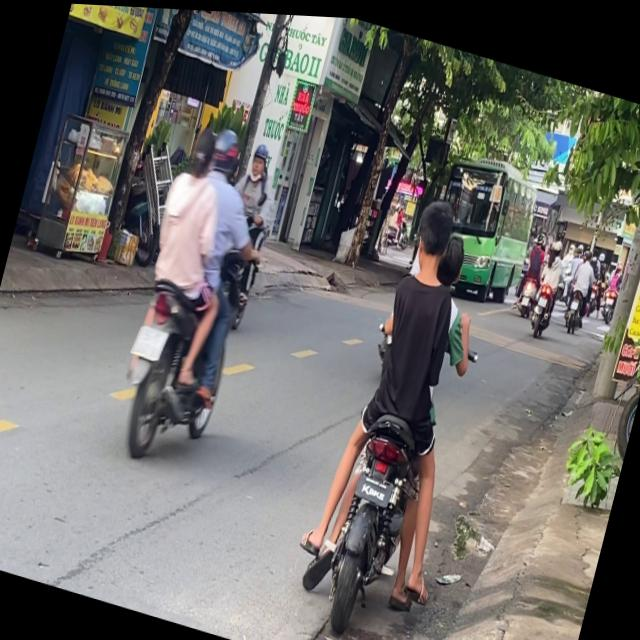helmet: (205, 119, 245, 177), (246, 135, 270, 175)
licenseplate: (282, 169, 518, 640), (99, 105, 286, 475), (203, 128, 293, 334)
motorcyclist: (404, 186, 460, 274), (185, 118, 218, 173)
nohelmet: (130, 320, 167, 358)
